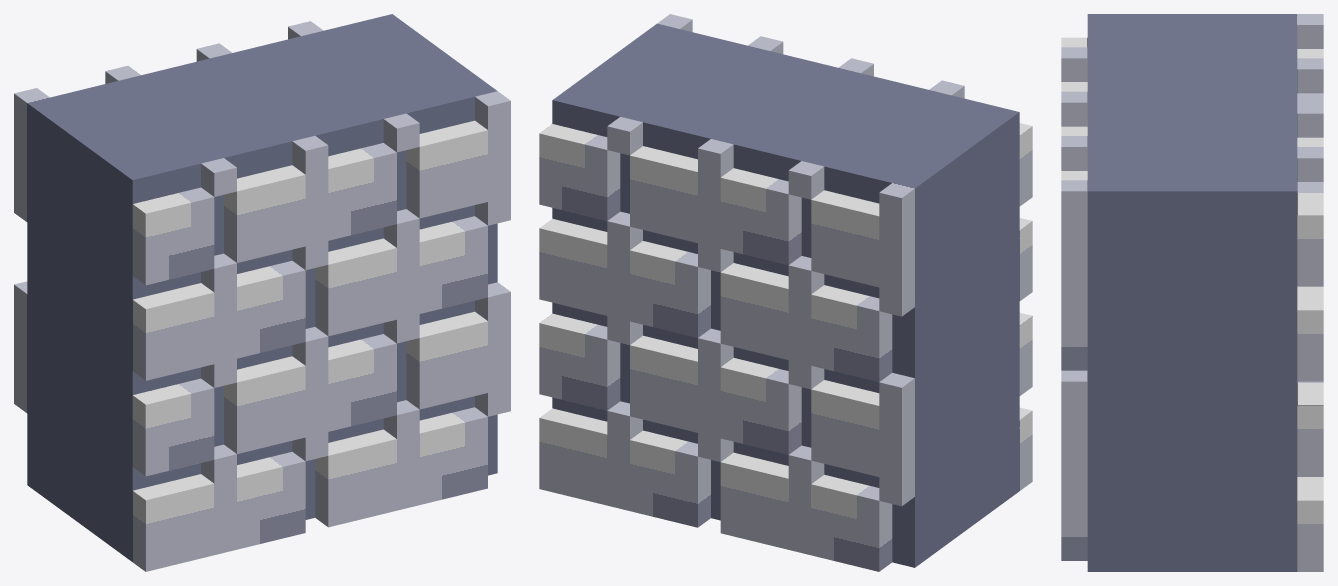
The model's file is neutralWalll.obj.
3 views of the same model, side by side, from view 1: azimuth 30°, elevation 25°; view 2: azimuth 150°, elevation 25°; view 3: azimuth 270°, elevation 25° (orthographic).
Parts seen in each view (by area): view 1: neutralWalll; view 2: neutralWalll; view 3: neutralWalll.
Boxes of the visible parts, x1,y1,x2,y2 form: neutralWalll: [14, 14, 510, 571]; neutralWalll: [539, 14, 1032, 571]; neutralWalll: [1061, 14, 1323, 571].
Bounding box in the file's own units: 16 × 16 × 10.
1 material, 1 textured.
